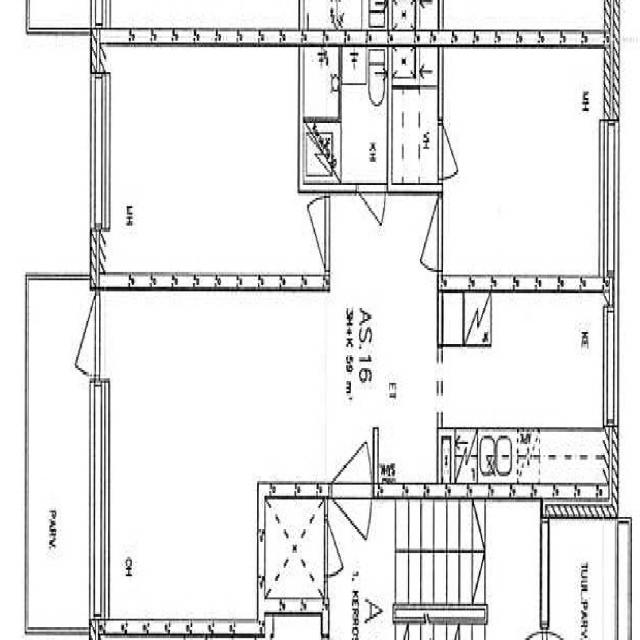door: (331, 483, 371, 580), (331, 401, 371, 498), (56, 295, 99, 376), (289, 197, 330, 271), (402, 197, 442, 270), (437, 123, 469, 179), (358, 183, 384, 249)
